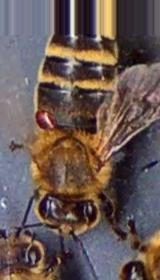varroa_mite: (26, 96, 62, 135)
